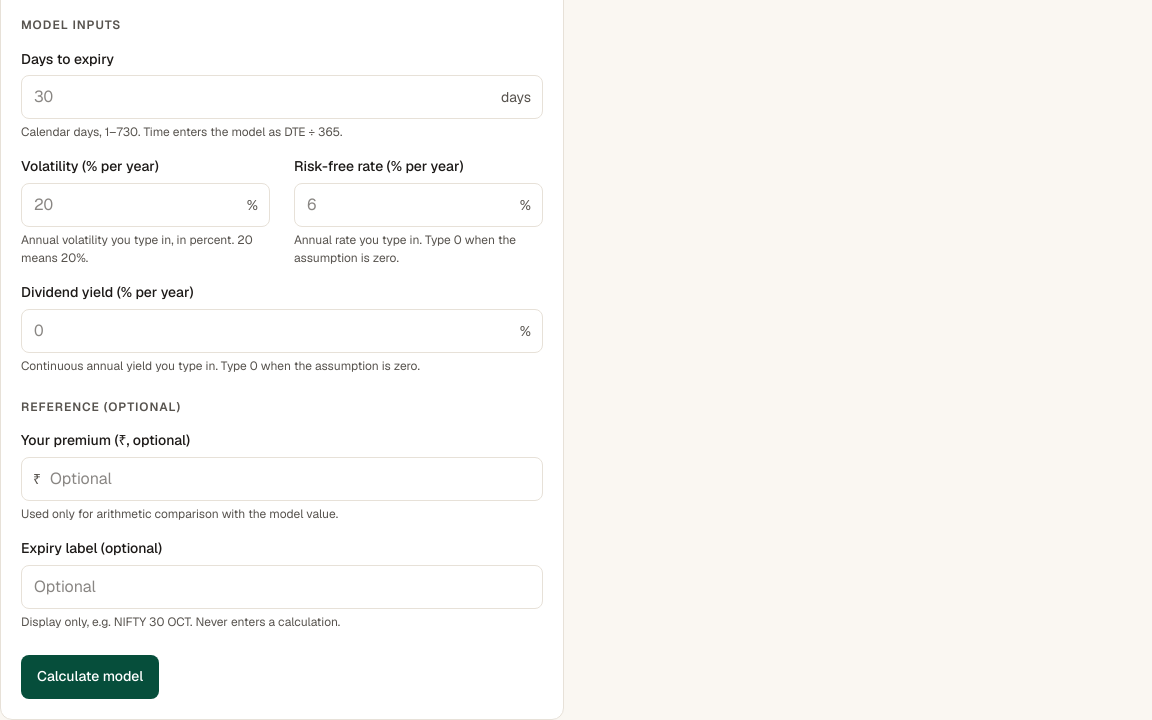
Test: GreekMapAnalyzer calculation › blocks invalid input with a factual reason
(page scrolled)
Click the button "Calculate model" at (90, 676), box [21,654,159,698]
(page scrolled)
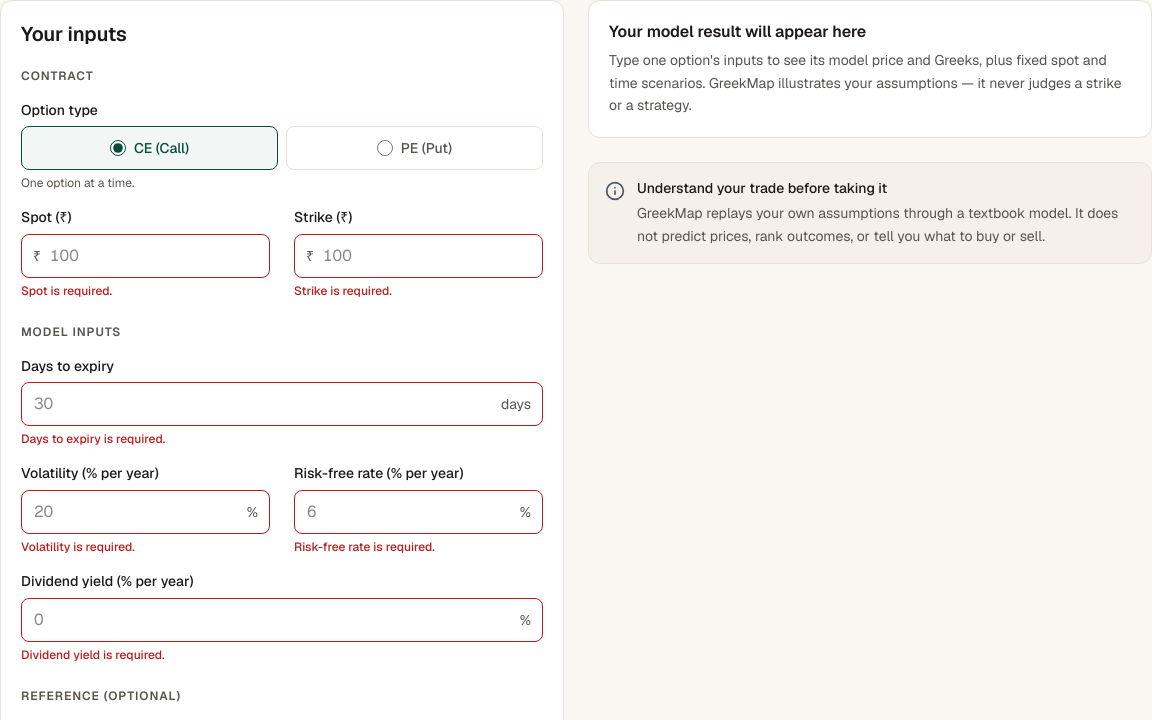
Now the text "Spot is required." is shown, box [21,283,112,299]
